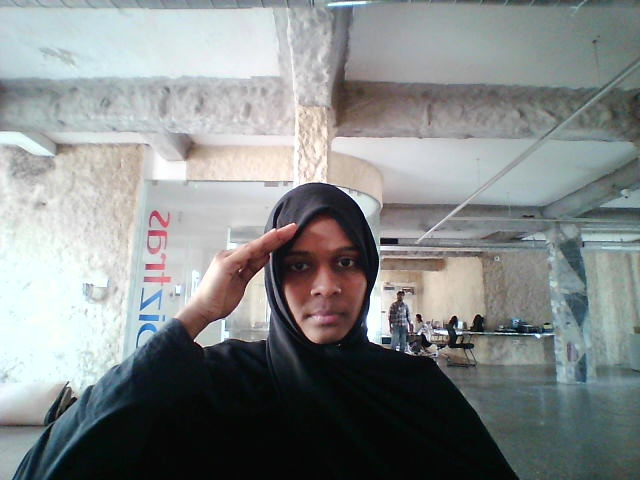HELLO: (179, 198, 301, 357)
